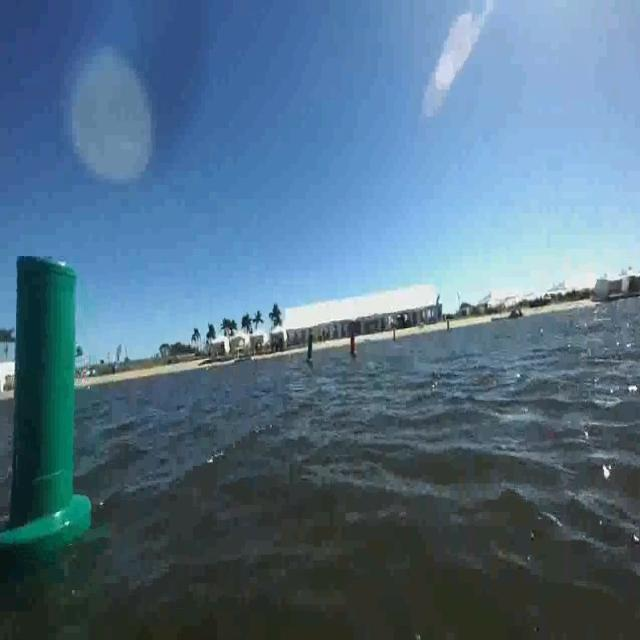green-column-buoy: (0, 261, 93, 552), (304, 334, 313, 364)
